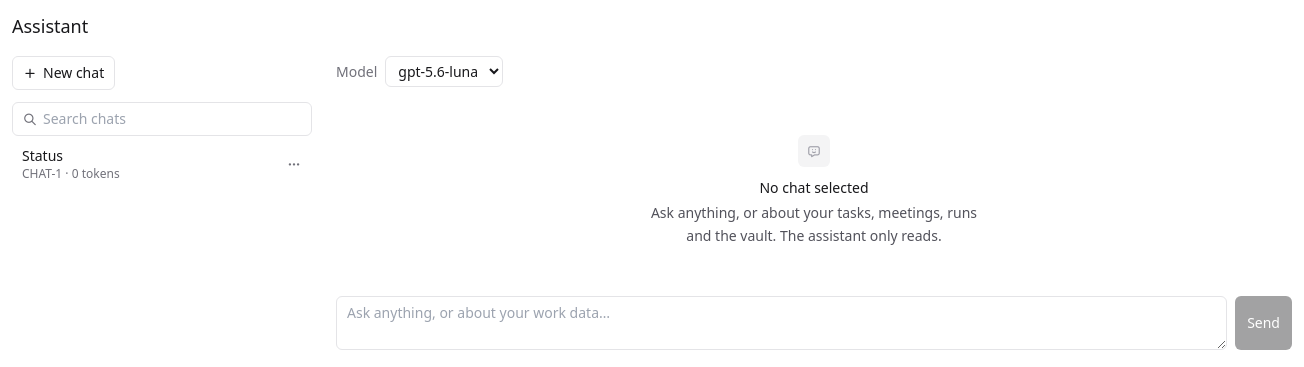
it: streaming › AC-3: a step event shows a get_task chip before done
The image size is (1304, 367).
Click the button "Status CHAT-1 · 0 tokens" at (43, 156), box [12,140,276,188]
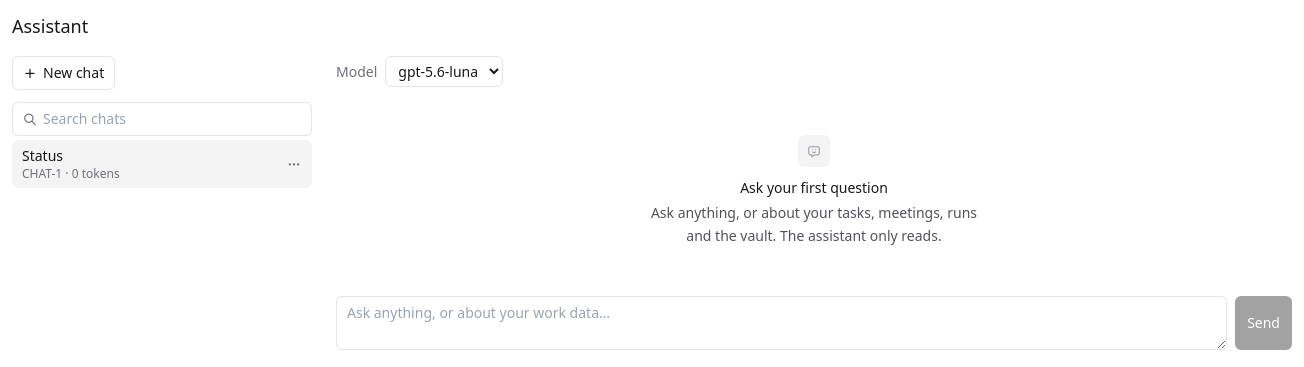
Expected: the text "Ask your first question" is shown, [740,177,888,198]
Type "hi" into the text box named "Message" at (782, 322), box [336,296,1227,350]
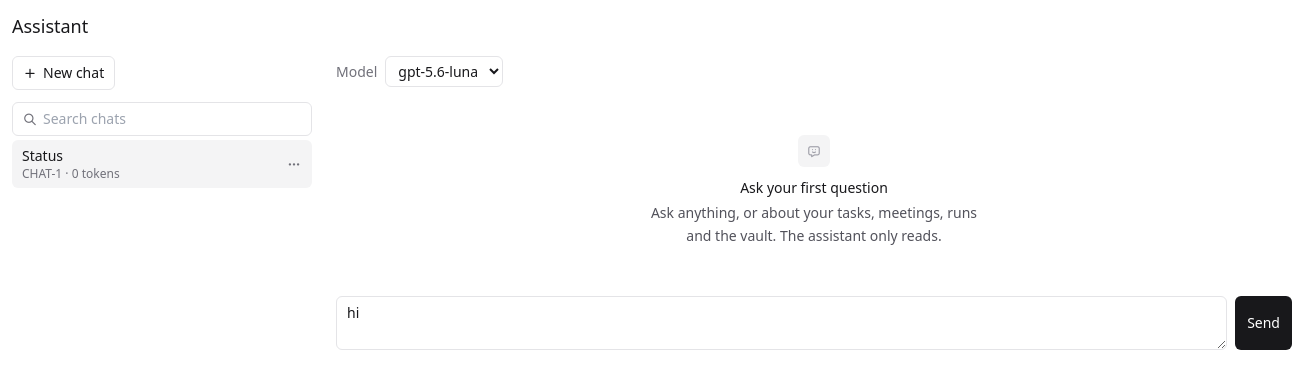
Click the button "Send" at (1264, 322), box [1235,296,1292,350]
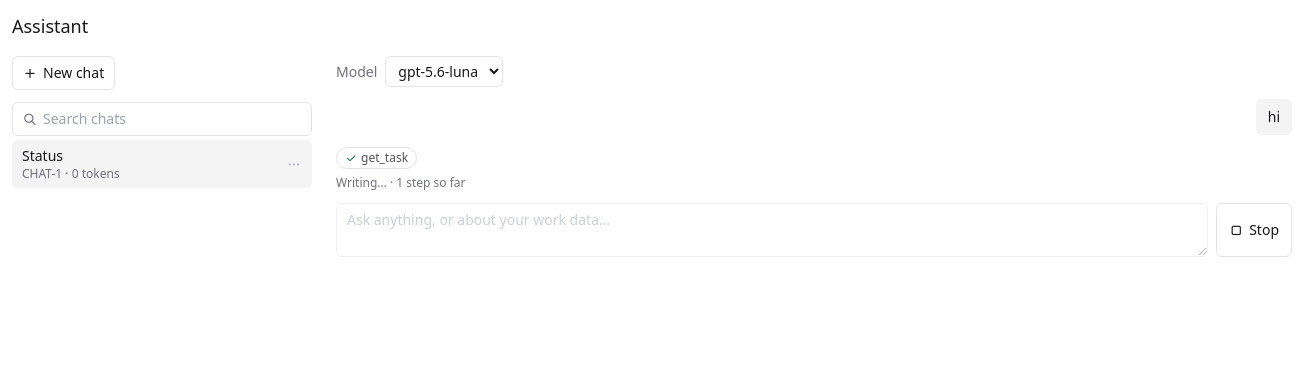
Expected: the icon named "ok" is shown, [345,152,357,164]
Expected: the list item with test id "assistant-tool-chip" reads "get_task", [361,149,408,166]
